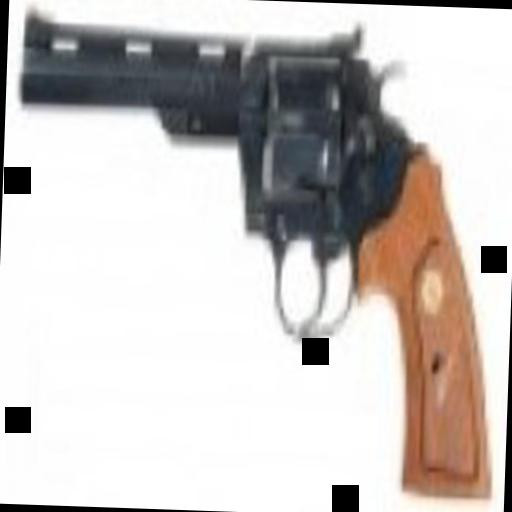Handgun: (2, 8, 506, 506)
